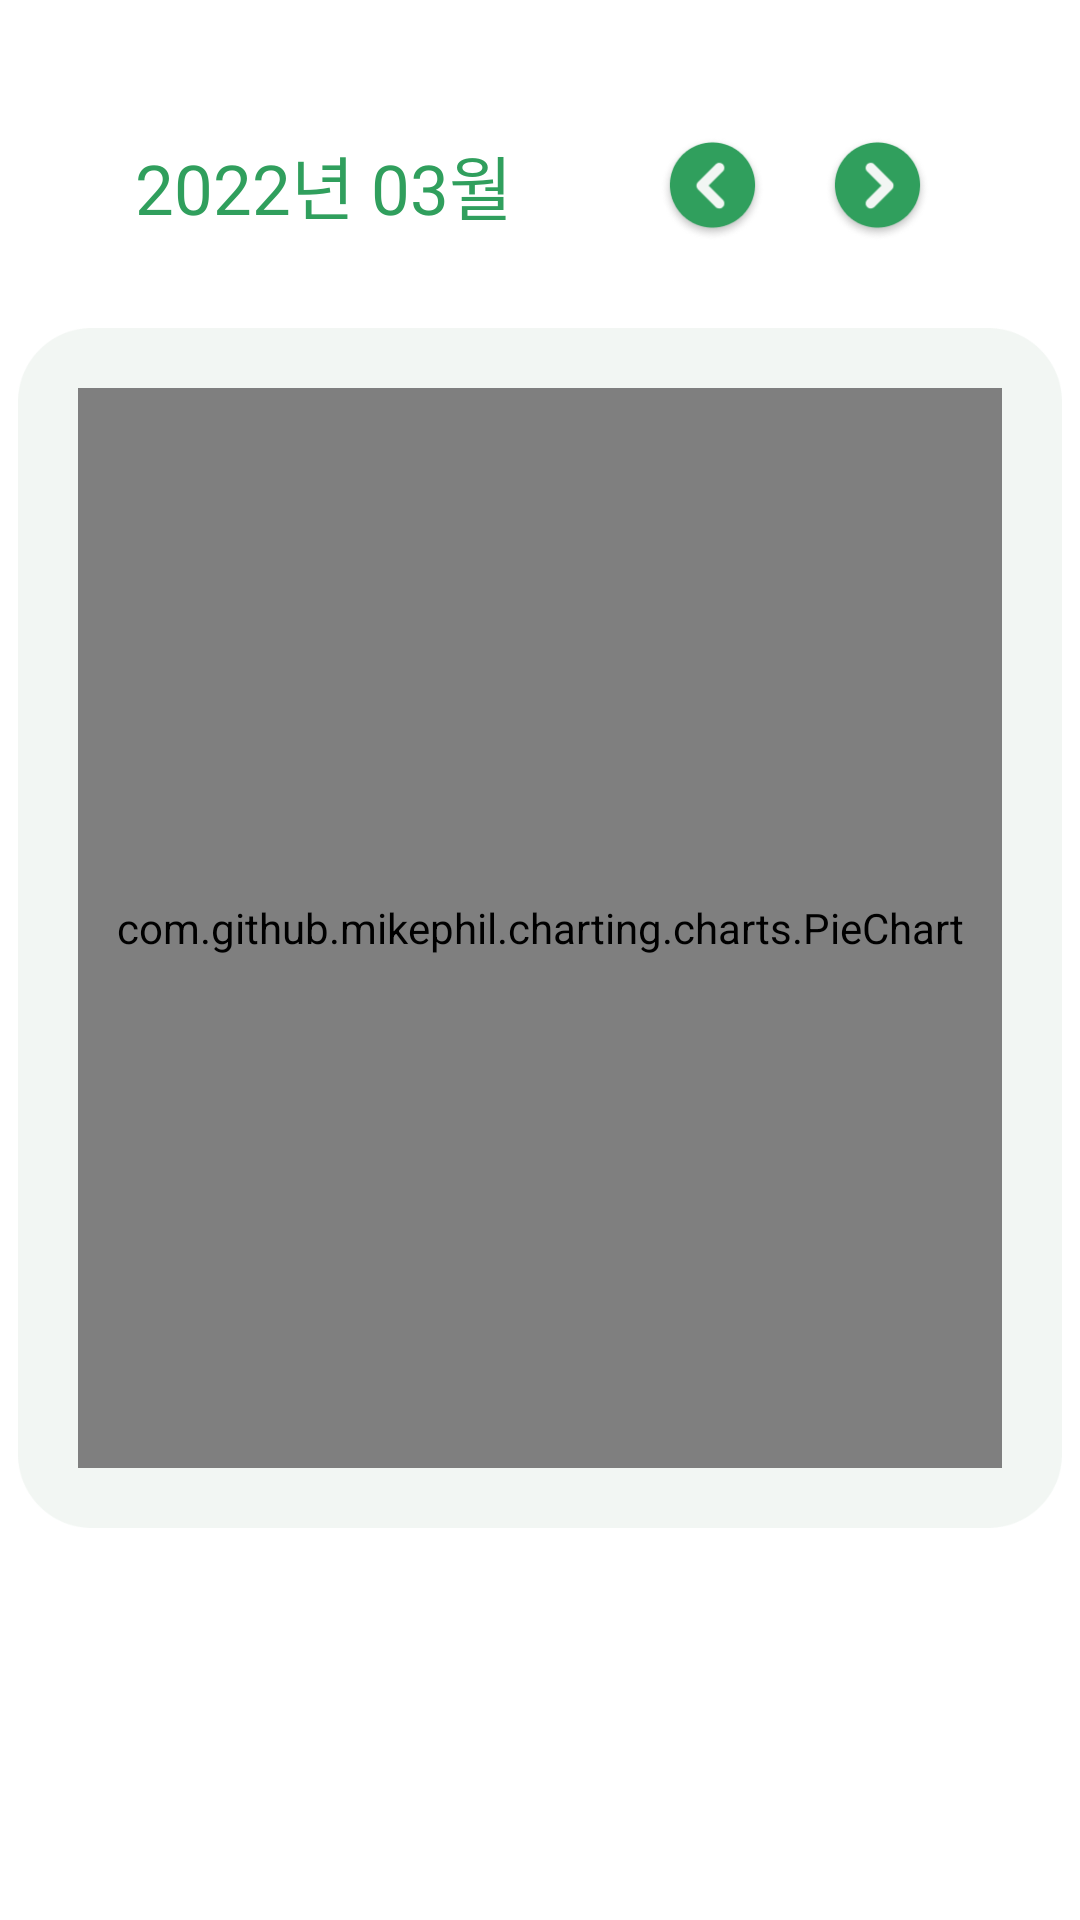

Screen size 1080px x 1920px. Icon name, then its box in pixels as (x1, y1, x2, y2):
cal leftbutton: (669, 142, 756, 233)
cal rightbutton: (834, 142, 921, 233)
